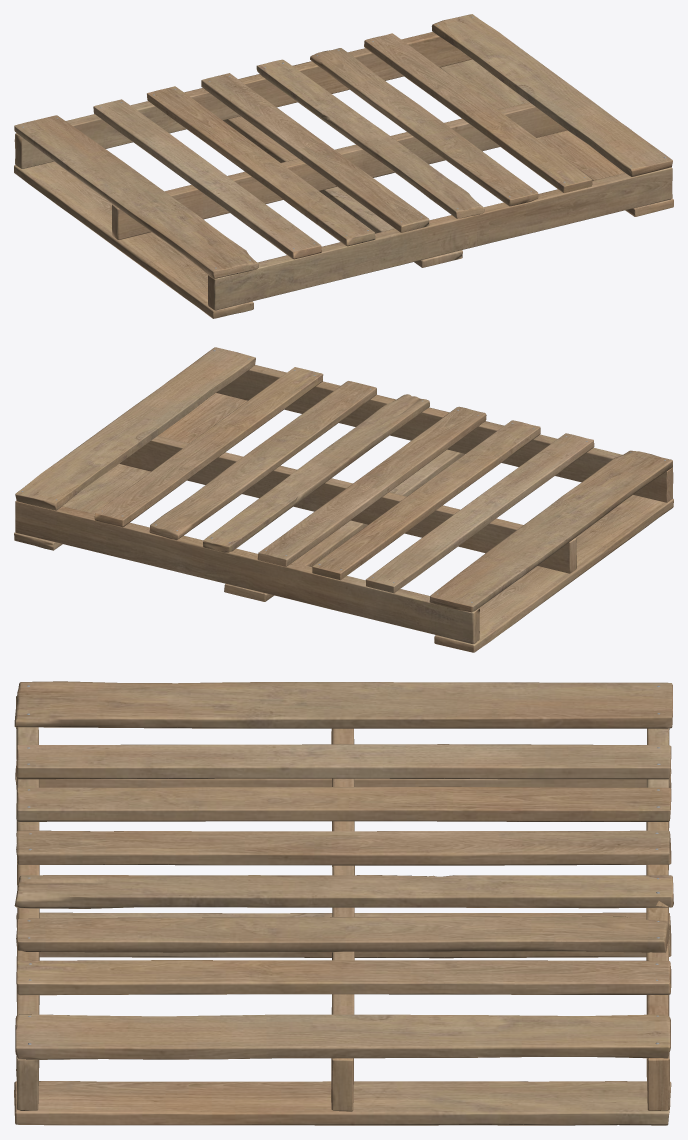
File: pallet_wood.glb
3 renders of one model, top to bottom at view 1: azimuth 30°, elevation 25°; view 2: azimuth 150°, elevation 25°; view 3: azimuth 270°, elevation 25°, orthographic. The views are drawn at different scales.
Visible parts, largest first — view 1: pallet_wood; view 2: pallet_wood; view 3: pallet_wood.
Part boxes in pixels (bbox=[...]): pallet_wood: bbox=[14, 14, 673, 318]; pallet_wood: bbox=[14, 347, 673, 652]; pallet_wood: bbox=[14, 681, 673, 1125].
Size of the model in its own units: 1.19 by 0.1211 by 0.9046.
Materials: 2 (2 with a texture image).
